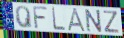A: (66, 7, 87, 32)
F: (32, 5, 49, 30)
L: (51, 6, 66, 32)
N: (85, 9, 103, 34)
Q: (14, 5, 33, 30)
Z: (103, 10, 120, 34)
